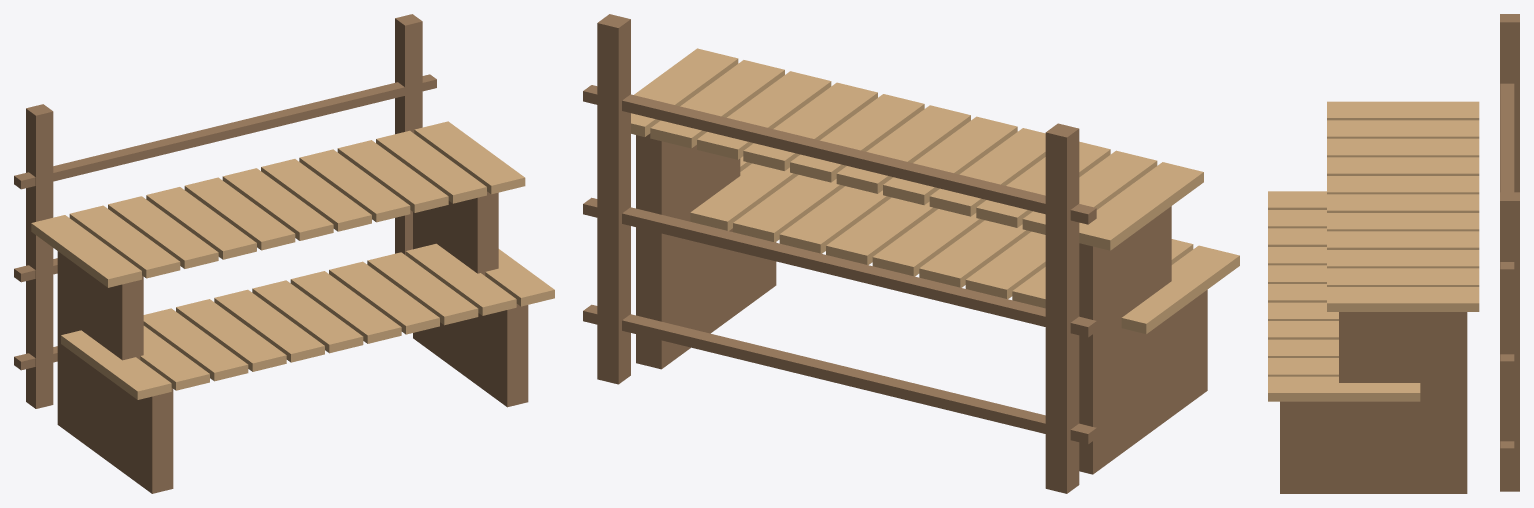
Rendered from sauna_bench01.glb.
The picture shows the model from 3 angles, left to right: view 1: azimuth 30°, elevation 25°; view 2: azimuth 150°, elevation 25°; view 3: azimuth 270°, elevation 25°; orthographic projection. The views are drawn at different scales.
Visible parts, largest first — view 1: slats_wood_light_0, legs_wood_oiled_1, back_posts_wood_oiled_3, back_support_wood_oiled_2; view 2: slats_wood_light_0, legs_wood_oiled_1, back_support_wood_oiled_2, back_posts_wood_oiled_3; view 3: slats_wood_light_0, legs_wood_oiled_1, back_posts_wood_oiled_3, back_support_wood_oiled_2.
Boxes of the visible parts, <box> form: slats_wood_light_0: <box>31,121,554,399</box>; legs_wood_oiled_1: <box>57,191,528,493</box>; back_posts_wood_oiled_3: <box>26,14,422,408</box>; back_support_wood_oiled_2: <box>14,74,436,370</box>; slats_wood_light_0: <box>631,48,1239,334</box>; legs_wood_oiled_1: <box>636,133,1207,474</box>; back_support_wood_oiled_2: <box>583,85,1096,444</box>; back_posts_wood_oiled_3: <box>597,14,1079,493</box>; slats_wood_light_0: <box>1268,101,1479,401</box>; legs_wood_oiled_1: <box>1280,312,1467,493</box>; back_posts_wood_oiled_3: <box>1500,14,1519,491</box>; back_support_wood_oiled_2: <box>1500,83,1514,456</box>.
Bounding box in the file's own units: 1.78 × 1.22 × 0.9425.
